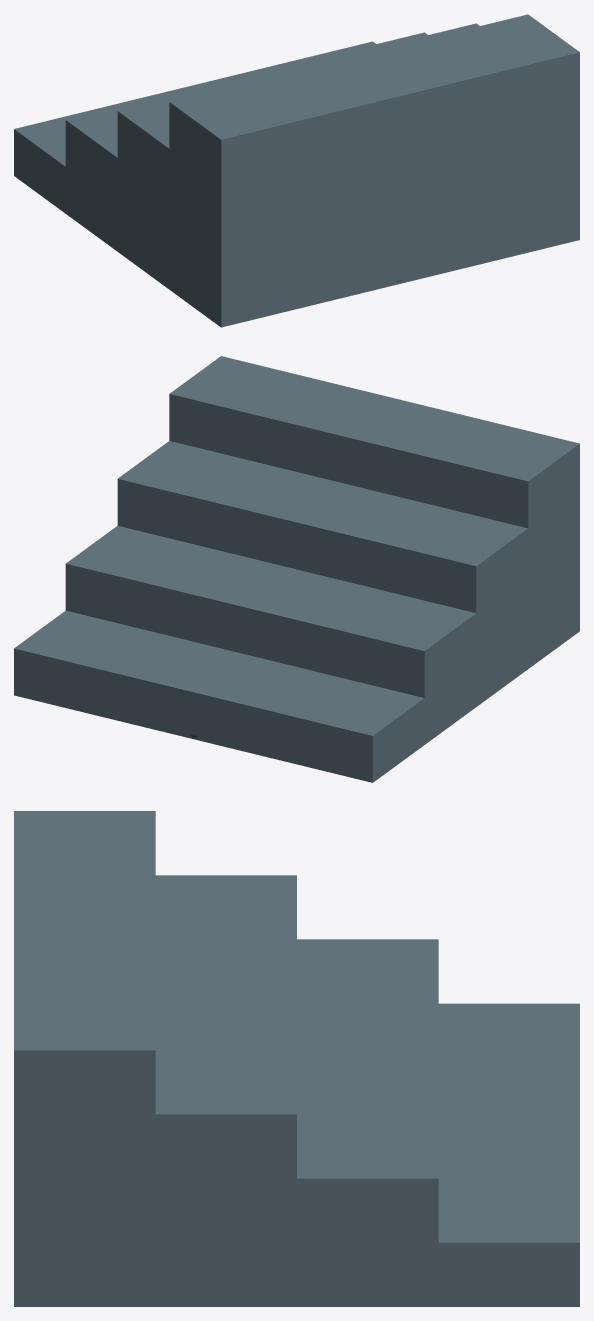
Rendered from terrain-metal-stairs.lod0.glb.
3 views of the same model, one above another, from view 1: azimuth 30°, elevation 25°; view 2: azimuth 150°, elevation 25°; view 3: azimuth 270°, elevation 25° (orthographic). The views are drawn at different scales.
Visible parts, largest first — view 1: terrain-metal-stairs__body; view 2: terrain-metal-stairs__body; view 3: terrain-metal-stairs__body.
Boxes of the visible parts, <box> form: terrain-metal-stairs__body: <box>14,14,579,327</box>; terrain-metal-stairs__body: <box>14,356,579,782</box>; terrain-metal-stairs__body: <box>14,811,579,1306</box>.
Bounding box in the file's own units: 2 × 1 × 2.
